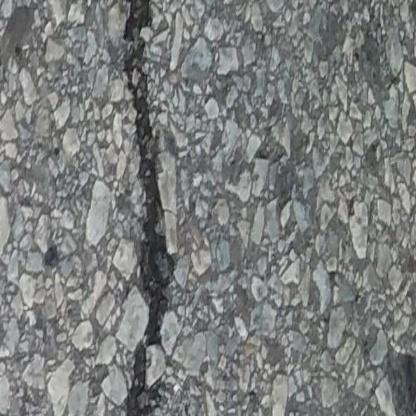Cracks: (120, 0, 180, 416)
